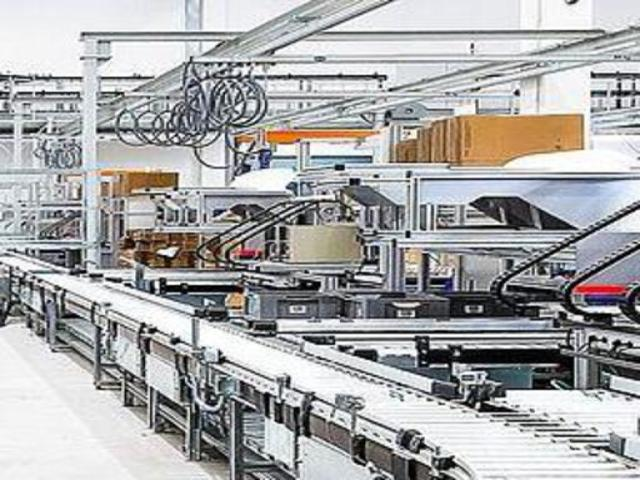conveyor: (0, 245, 639, 479)
